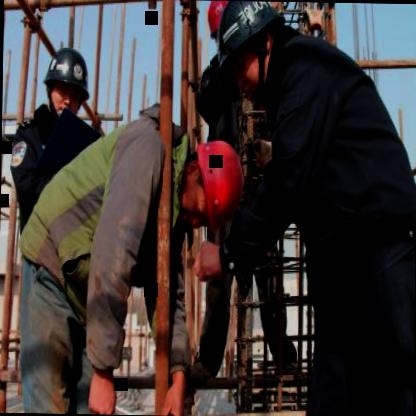helmet: (216, 0, 283, 102), (177, 136, 247, 230), (43, 46, 90, 122), (206, 0, 234, 43)
